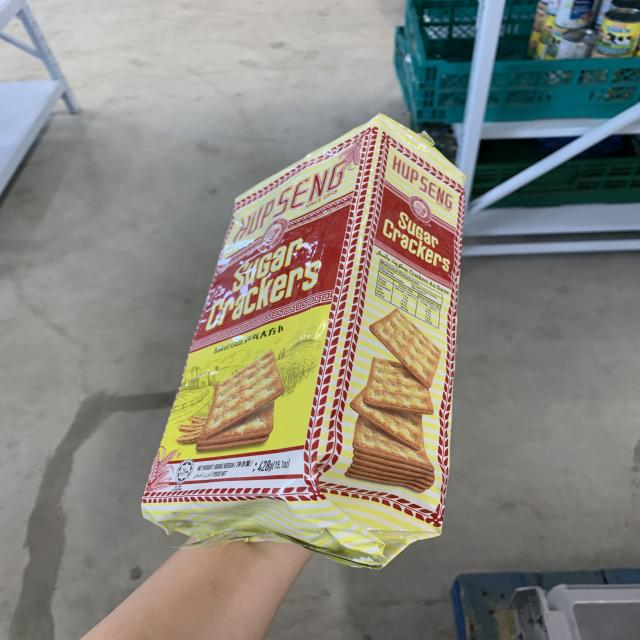object_name: (135, 136, 450, 543)
